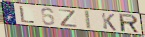6: (41, 7, 56, 26)
I: (84, 10, 93, 30)
K: (101, 12, 118, 32)
L: (19, 6, 36, 25)
R: (118, 13, 140, 34)
Z: (58, 8, 79, 29)
